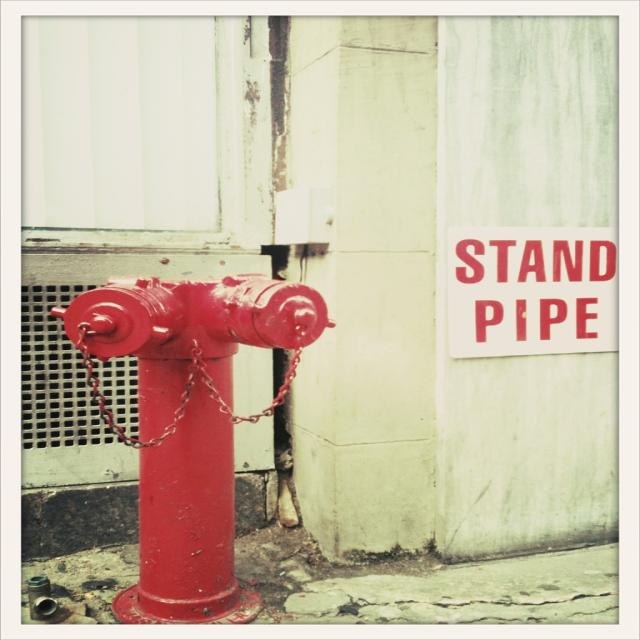fire_hydrant: (52, 275, 332, 626)
